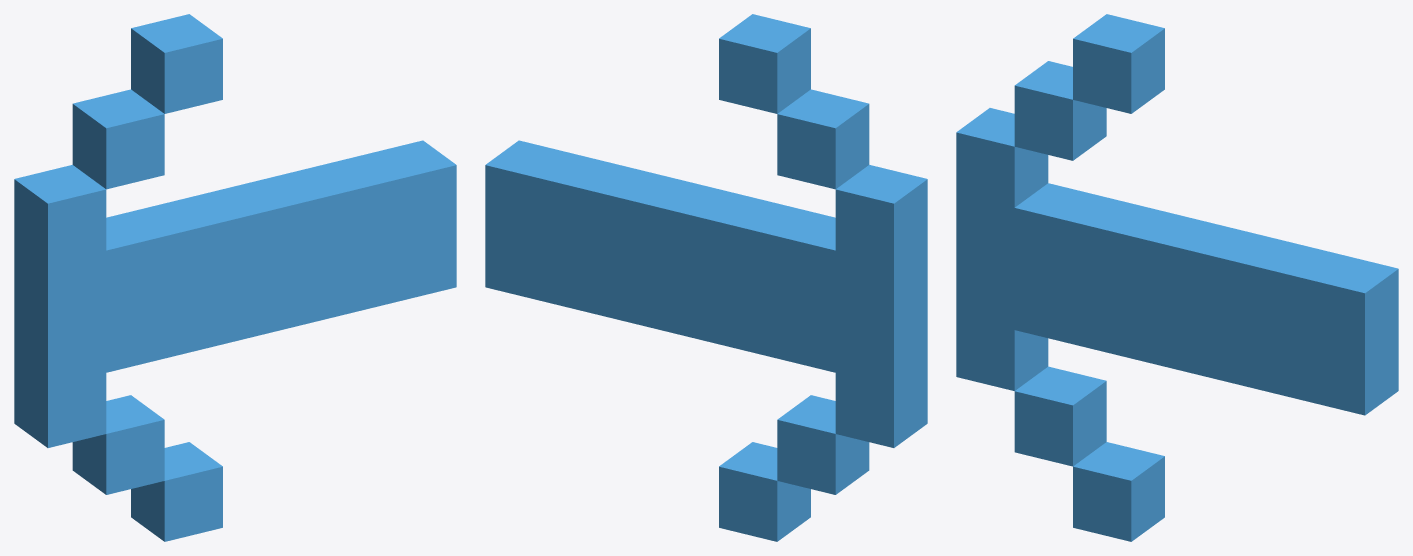
File: Crossbow-Blue.vox.obj
3 renders of one model, left to right at view 1: azimuth 30°, elevation 25°; view 2: azimuth 150°, elevation 25°; view 3: azimuth 330°, elevation 25°, orthographic.
Bounding box in the file's own units: 0.7 × 0.8 × 0.1.
Materials: 1 (1 with a texture image).
